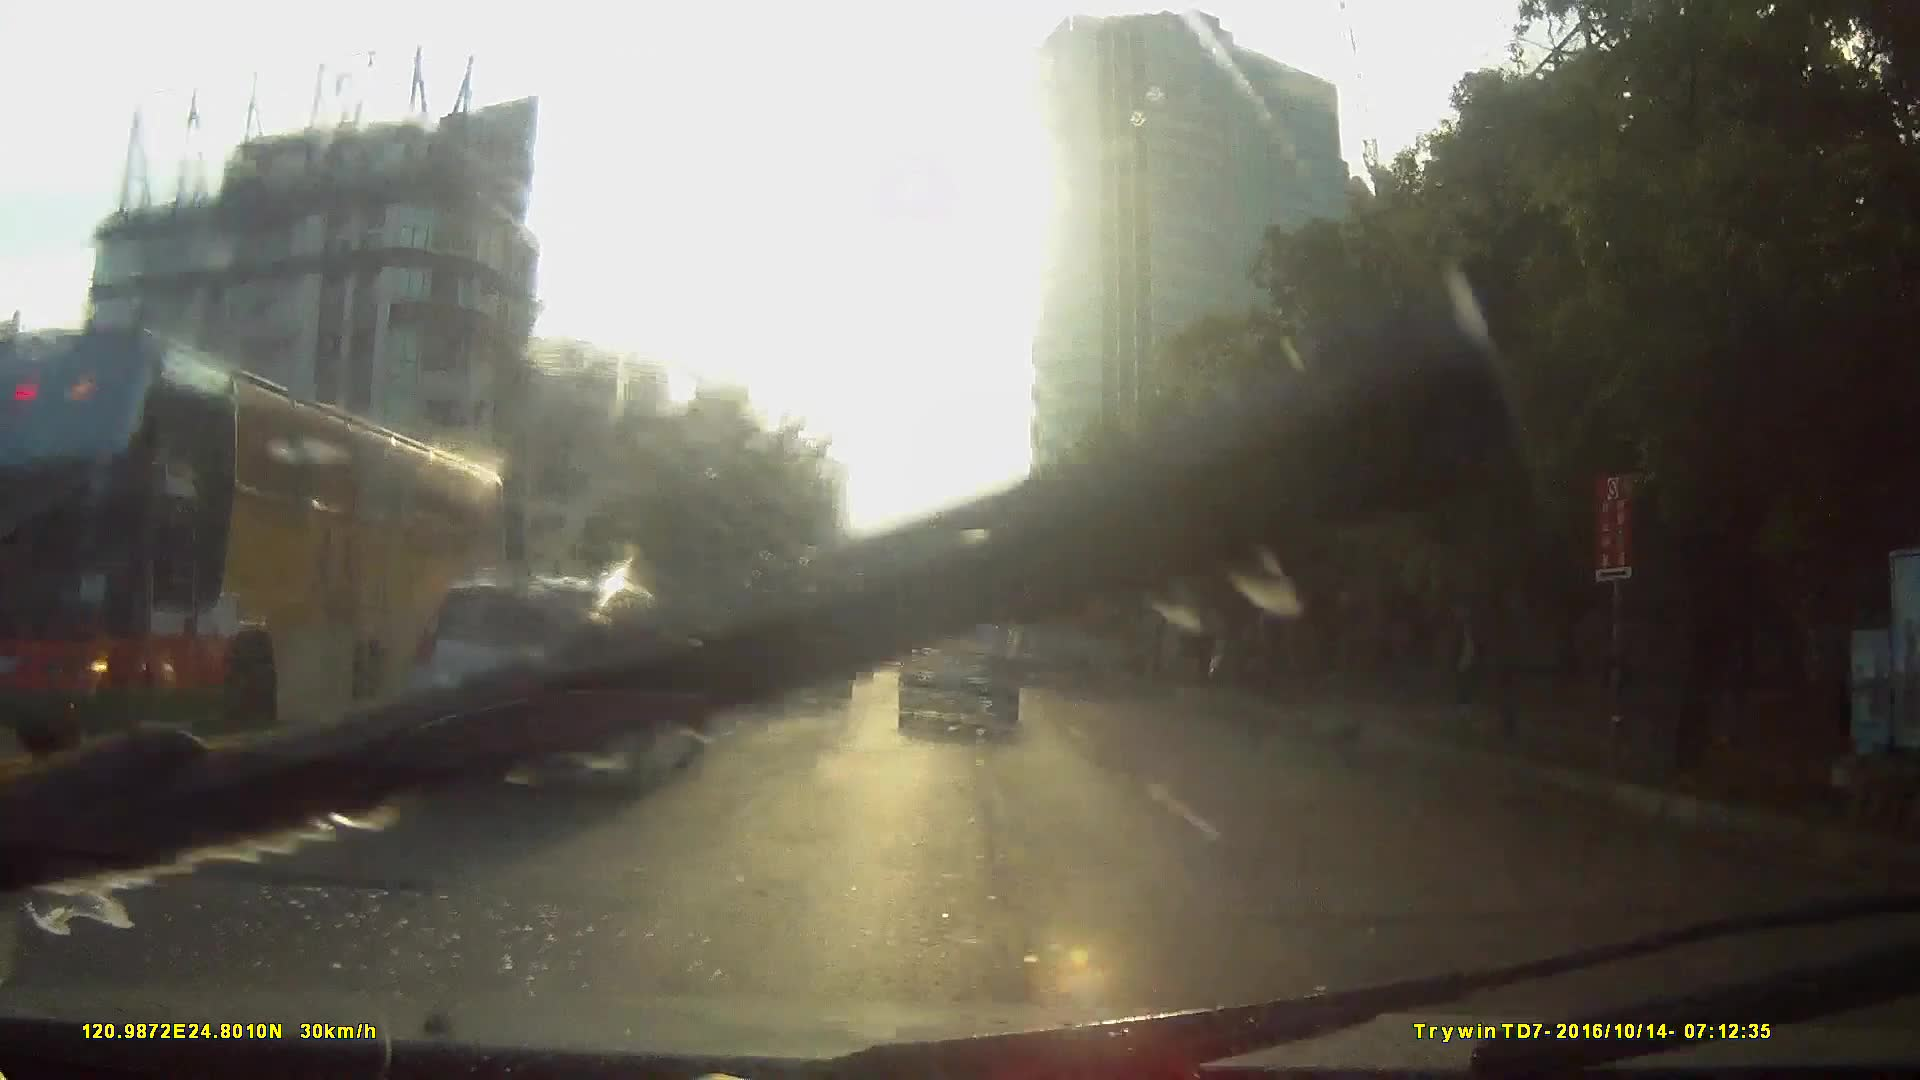vehicle: (1, 314, 522, 756), (251, 556, 684, 868), (404, 568, 703, 804), (893, 618, 1018, 731), (1007, 564, 1112, 690), (745, 624, 853, 709), (866, 638, 915, 687)
